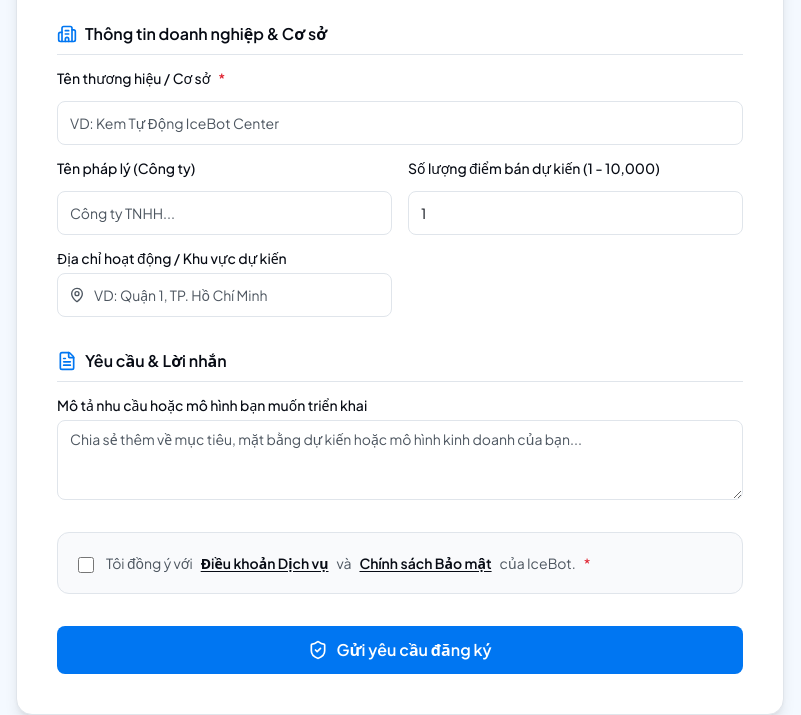
Test: RegistrationForm component on Landing Page › validates required fields on submit
(page scrolled)
Click the button "Gửi yêu cầu đăng ký": {"x": 400, "y": 650} [57, 626, 743, 674]
(page scrolled)
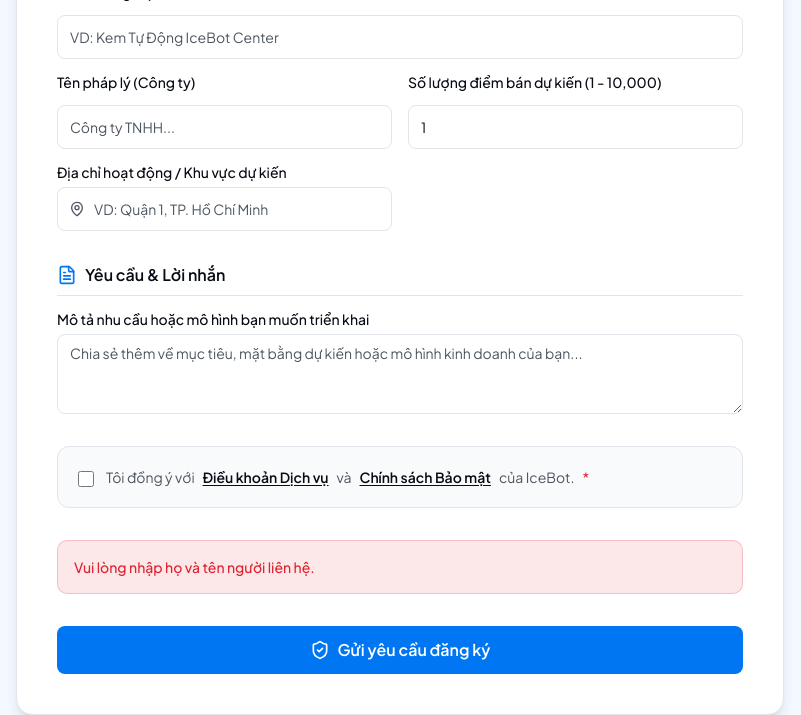
Result: the text "Vui lòng nhập họ và tên người liên hệ." is shown at [57, 540, 743, 594]
